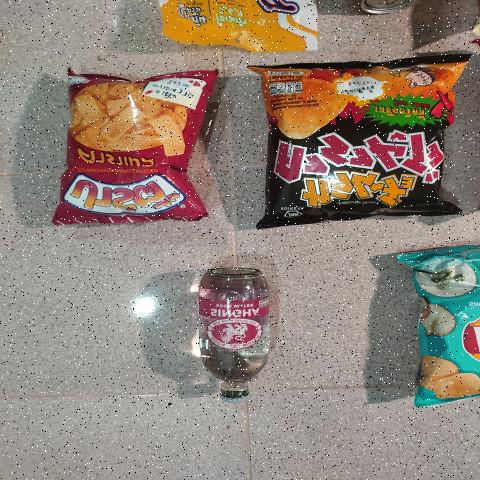karamujo: (262, 66, 450, 218)
party_red: (63, 76, 202, 223)
singha_soda: (180, 266, 283, 403)
